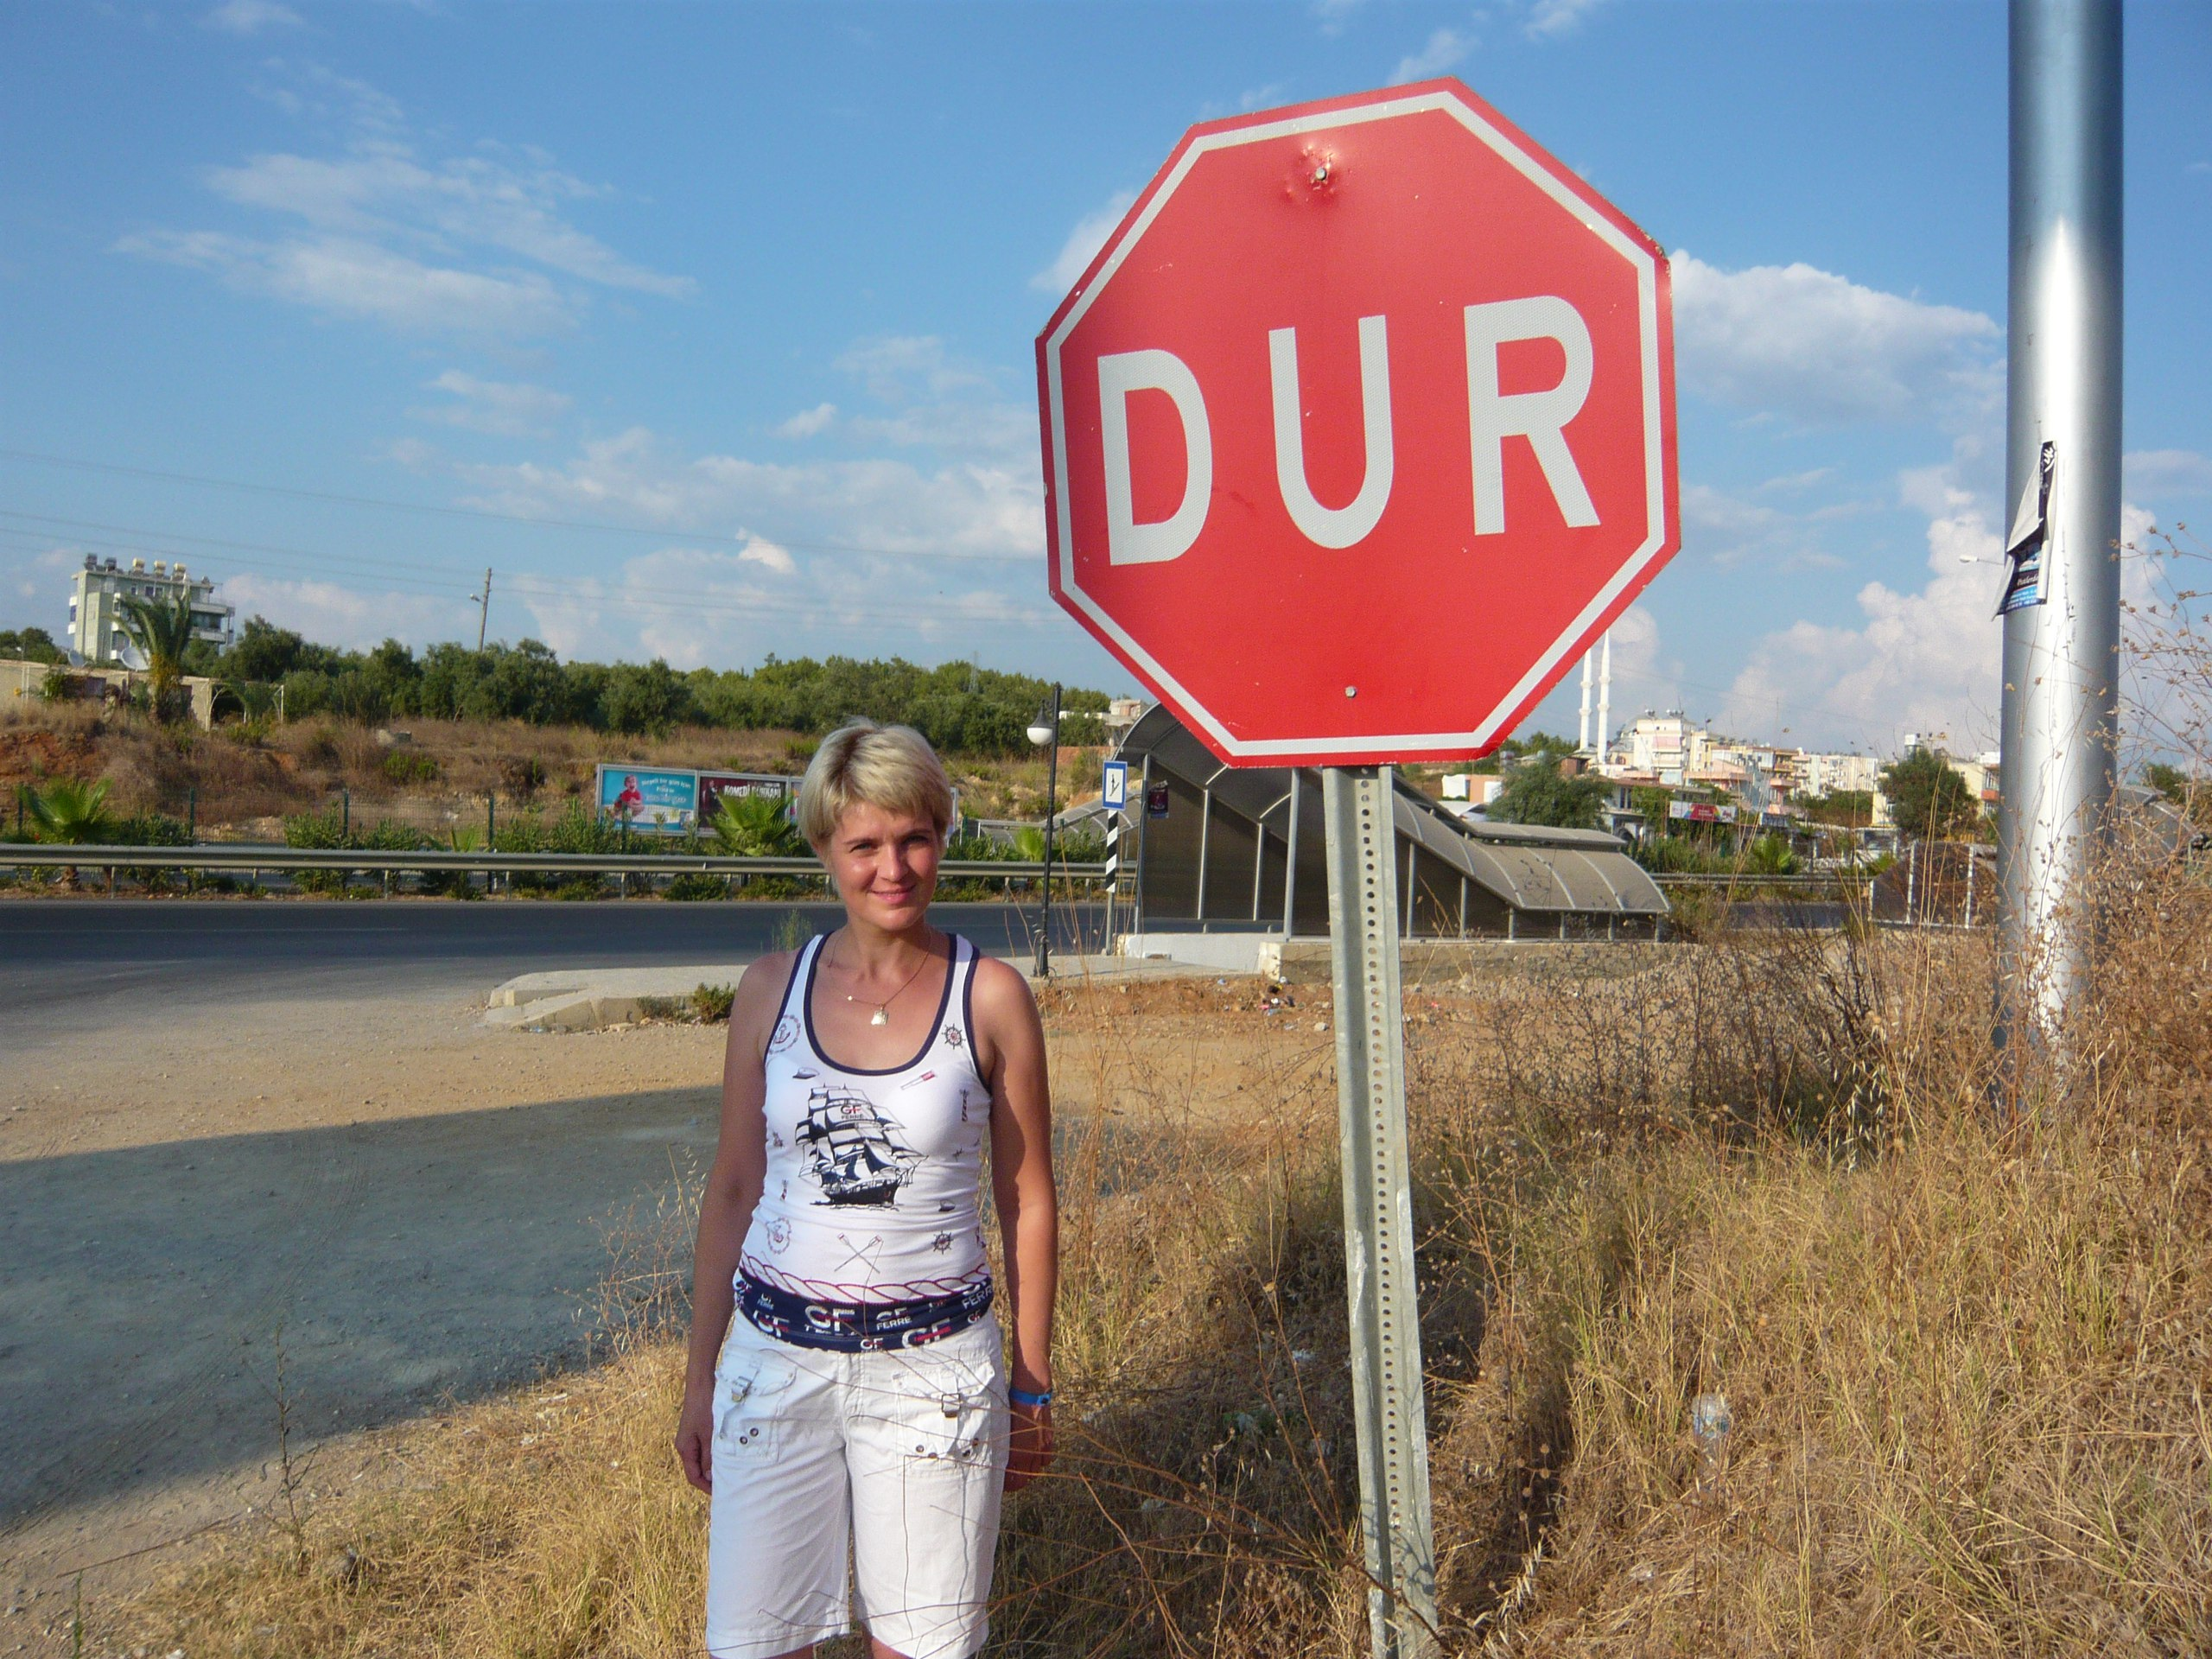dur: (1049, 86, 1675, 780)
yaya: (654, 700, 1099, 1655)
